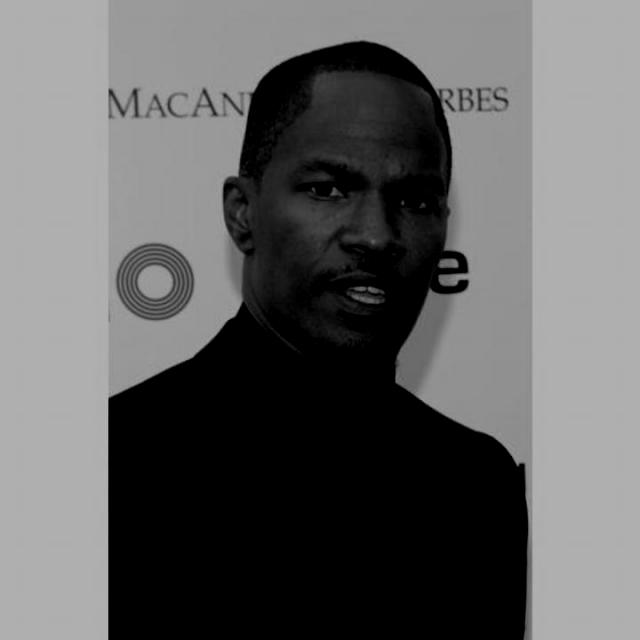real: (215, 72, 465, 384)
